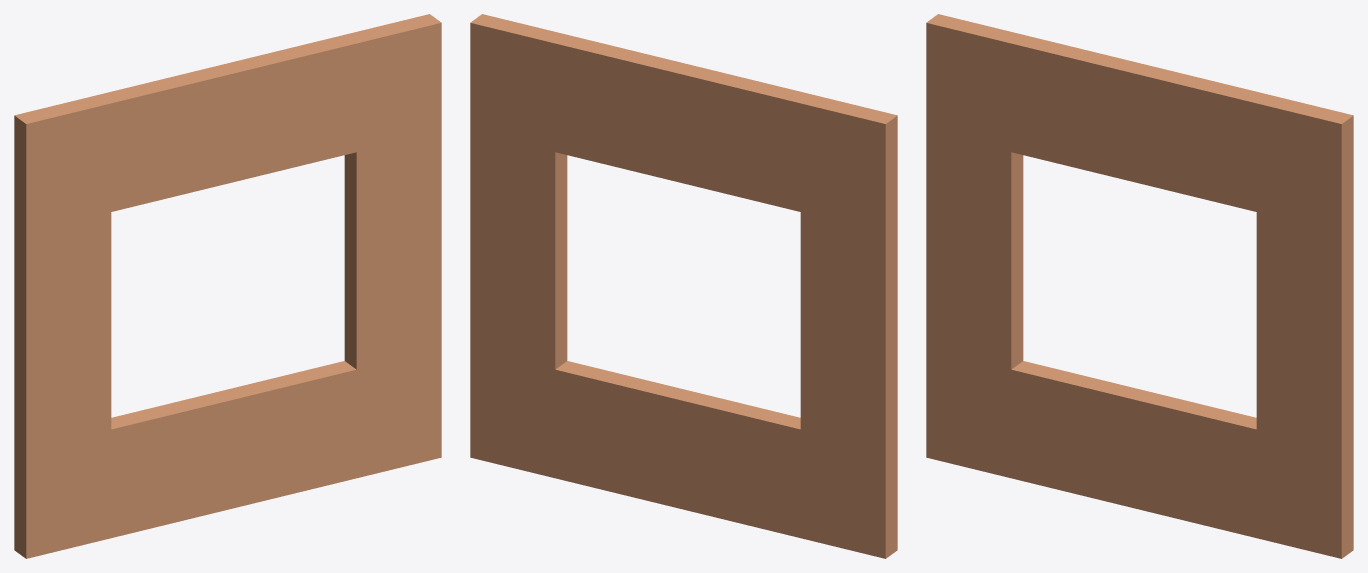
Rendered from Wal_4_C.fbx.
3 renders of one model, left to right at view 1: azimuth 30°, elevation 25°; view 2: azimuth 150°, elevation 25°; view 3: azimuth 330°, elevation 25°, orthographic.
Parts seen in each view (by area): view 1: pCube10; view 2: pCube10; view 3: pCube10.
Boxes of the visible parts, left/top/right/bottom form: pCube10: left=14, top=14, right=441, bottom=558; pCube10: left=470, top=14, right=897, bottom=558; pCube10: left=926, top=14, right=1353, bottom=558.
Bounding box in the file's own units: 4 × 4 × 0.2.
1 material, 1 textured.
